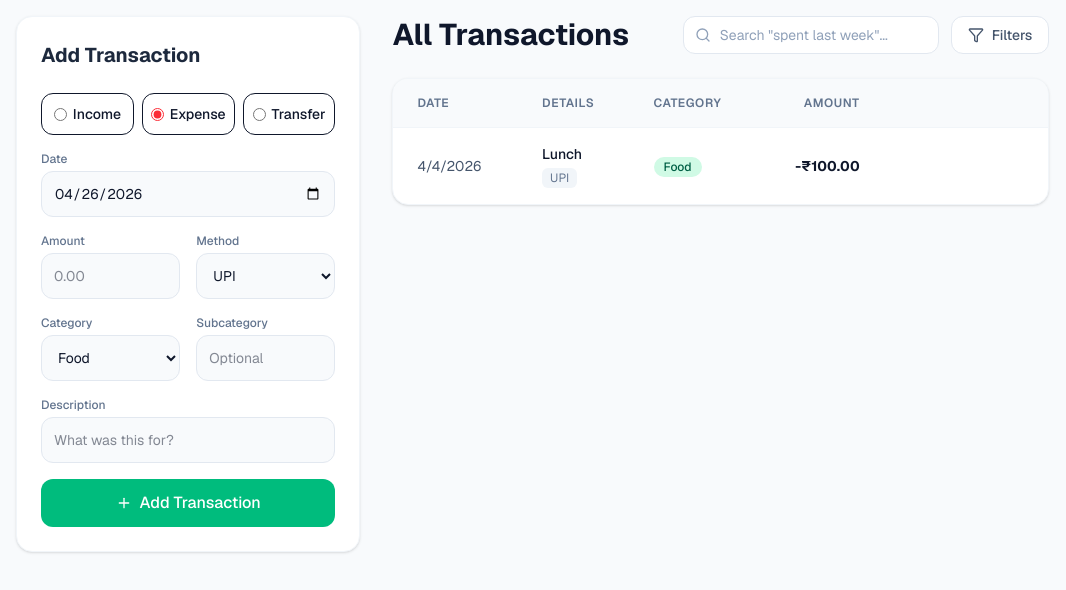
TransactionManager Component › validates form missing fields
The image size is (1066, 590).
Click the button "Add Transaction": {"x": 188, "y": 503} [41, 479, 336, 527]
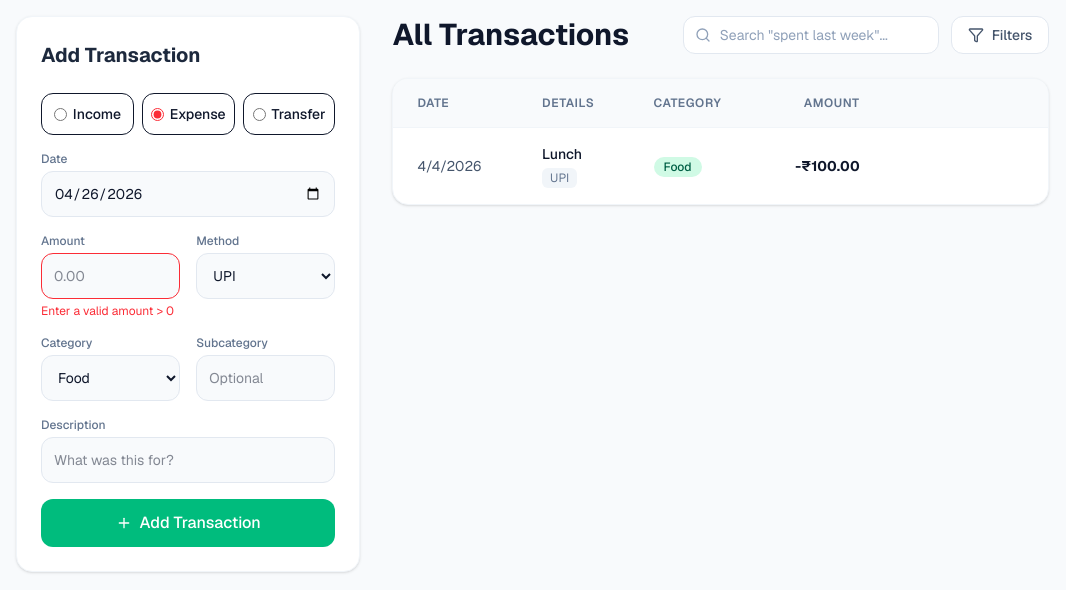
Check: the text "Enter a valid amount > 0" is shown, box [41, 303, 180, 319]
